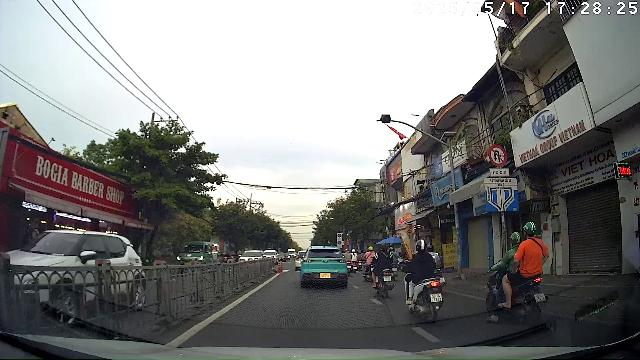124b-cam-oto-quay-dau-xe: (488, 144, 507, 166)
